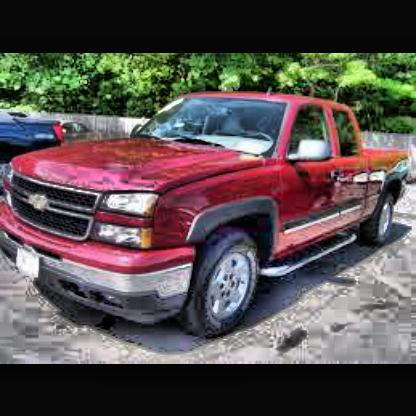Chevrolet Silverado 1500 Classic Extended Cab 2007: (3, 93, 415, 341)
